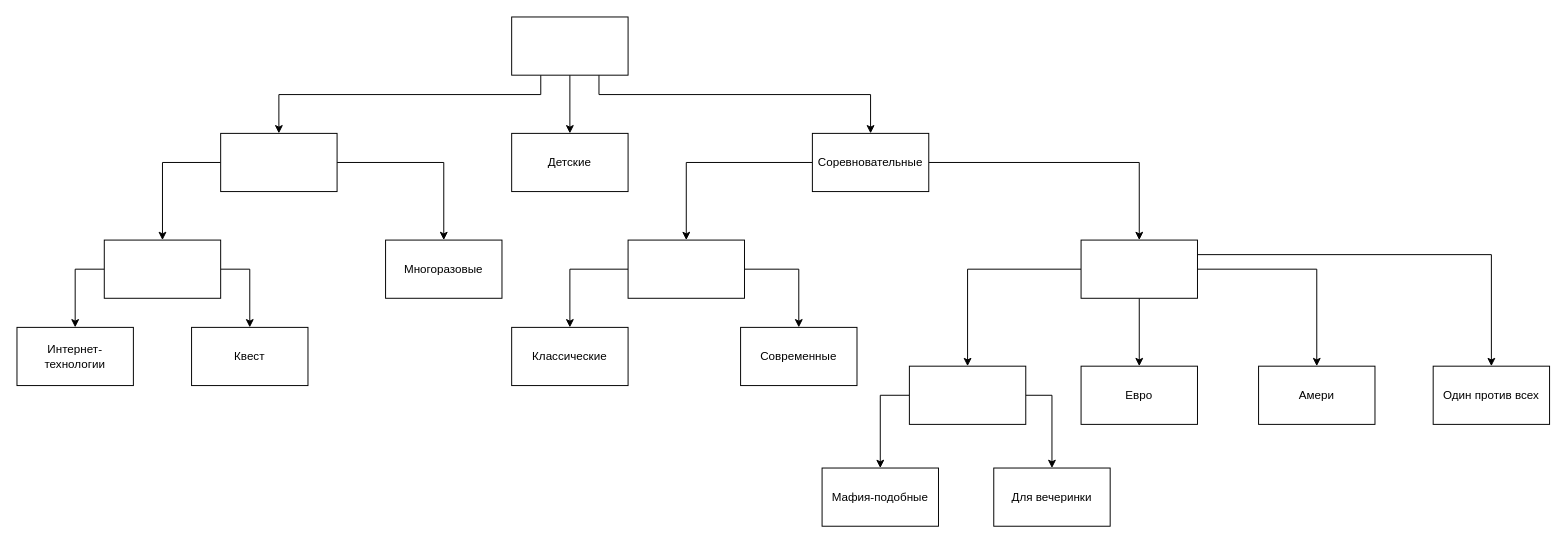
Some shapes in this 1567 by 543 pixel diagram are drawn without their labels. The centre of each missing label's shape, as x and y in pixels:
Дуэльные: (x=685, y=268)
Кооперативные: (x=278, y=162)
Много игроков: (x=1138, y=268)
Настольные игры: (x=569, y=45)
Одноразовые: (x=162, y=268)
Социальные игры: (x=967, y=394)
